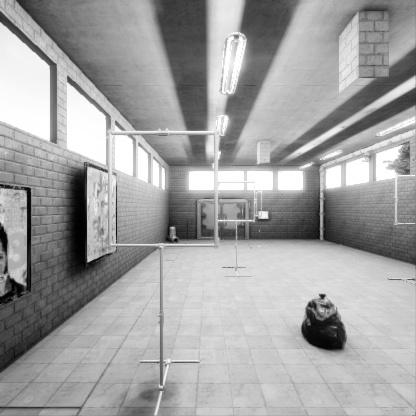gate: (114, 175, 224, 285), (218, 196, 257, 235), (398, 193, 416, 242), (256, 200, 262, 226)
